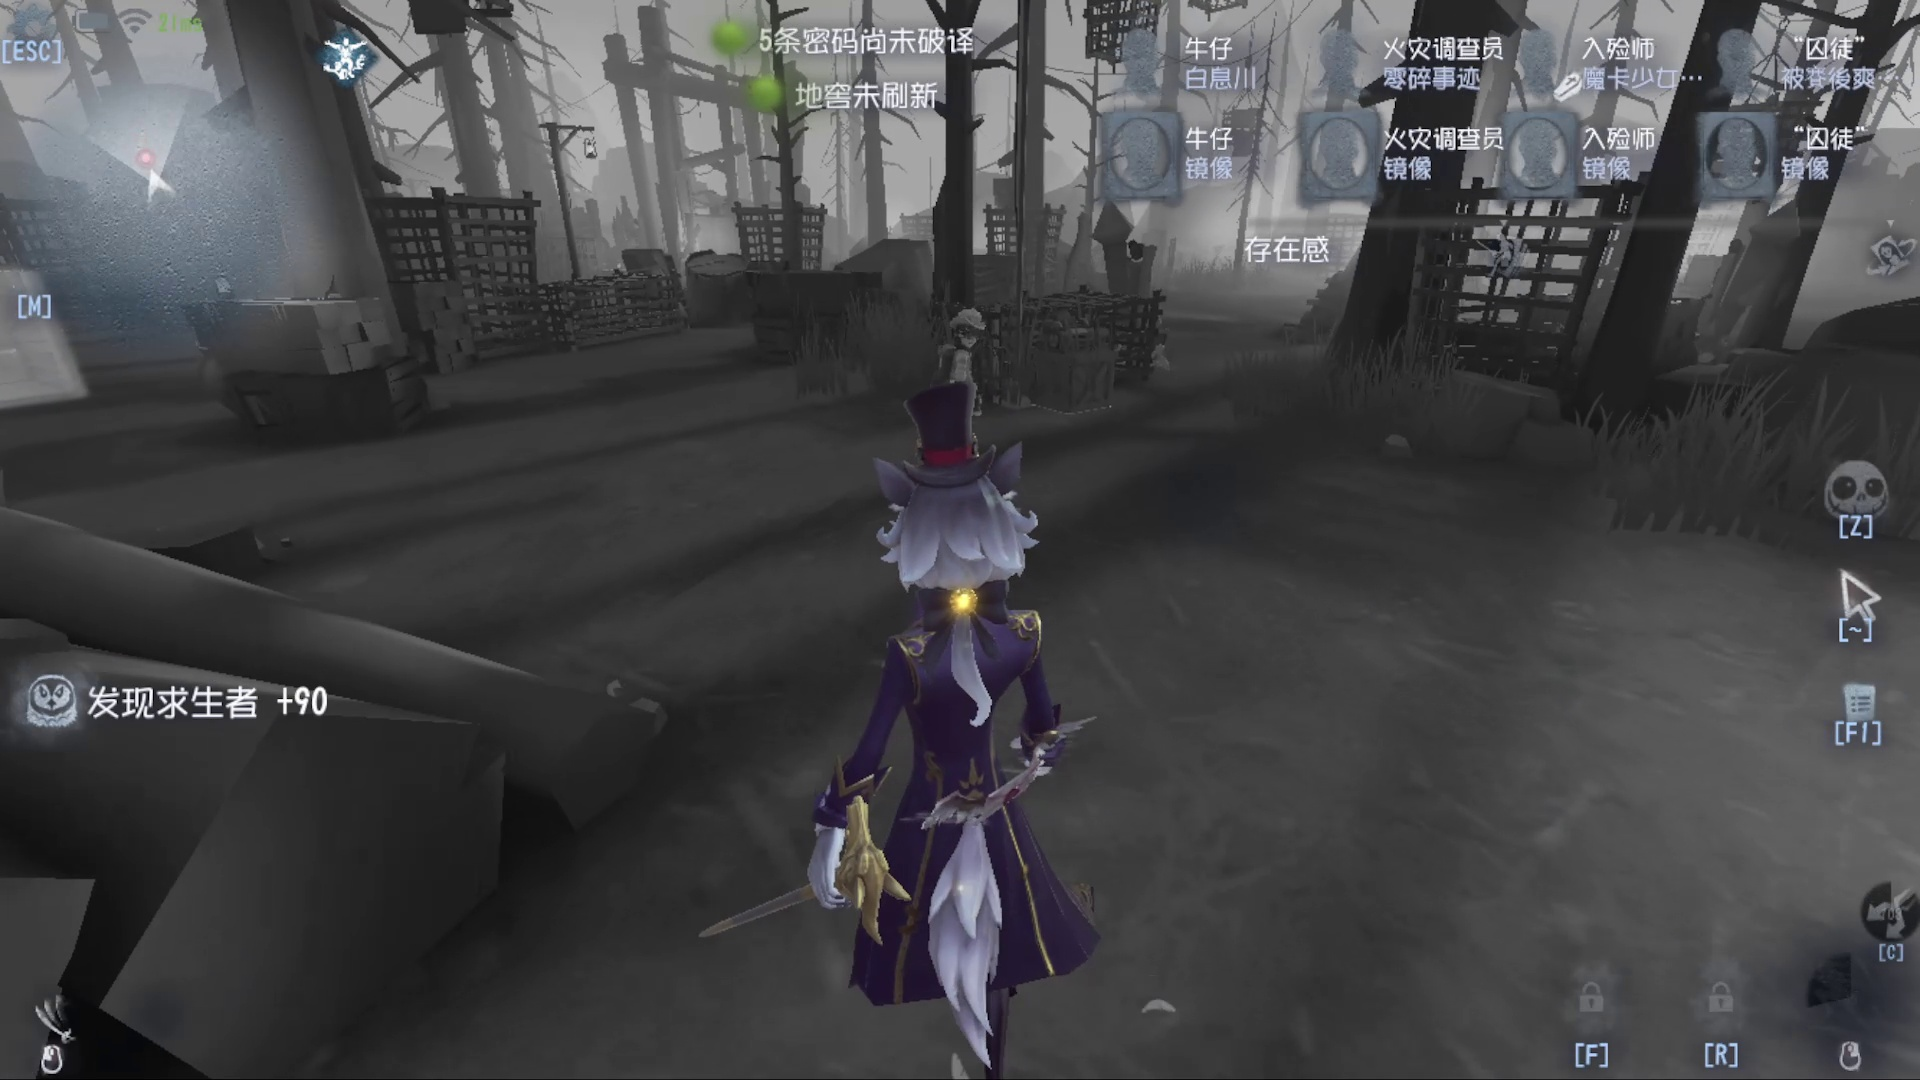求生者: (924, 291, 990, 396)
狂欢之椅: (1071, 208, 1203, 381)
